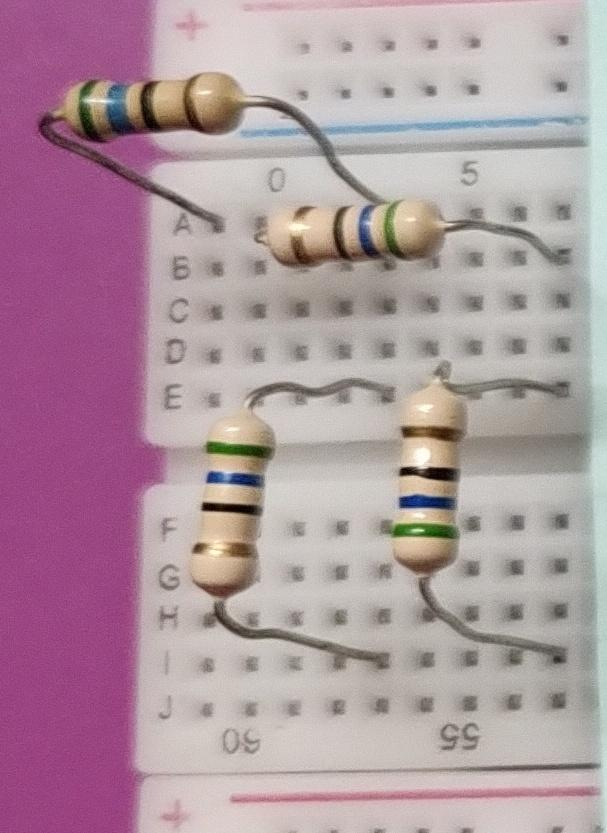resistor: (180, 394, 299, 634), (375, 372, 479, 600), (39, 69, 269, 162), (250, 192, 459, 286)
